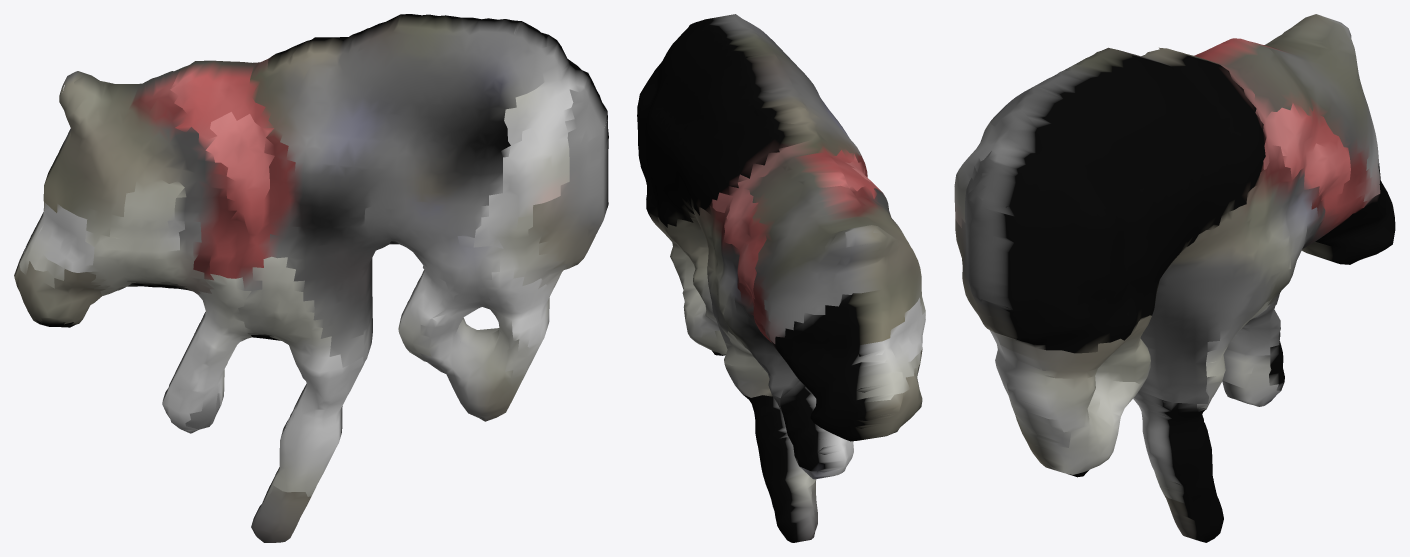
The model's file is soviet_dog.glb.
3 views of the same model, side by side, from view 1: azimuth 30°, elevation 25°; view 2: azimuth 150°, elevation 25°; view 3: azimuth 270°, elevation 25° (orthographic). The views are drawn at different scales.
Visible parts, largest first — view 1: soviet_attack_dog; view 2: soviet_attack_dog; view 3: soviet_attack_dog.
Boxes of the visible parts, box(x1,y1,x2,y2) form: soviet_attack_dog: box(14, 14, 608, 542); soviet_attack_dog: box(637, 14, 925, 542); soviet_attack_dog: box(954, 14, 1395, 542).
Size of what is drawn, in the model's own units: 1.7 by 1.95 by 1.47.
